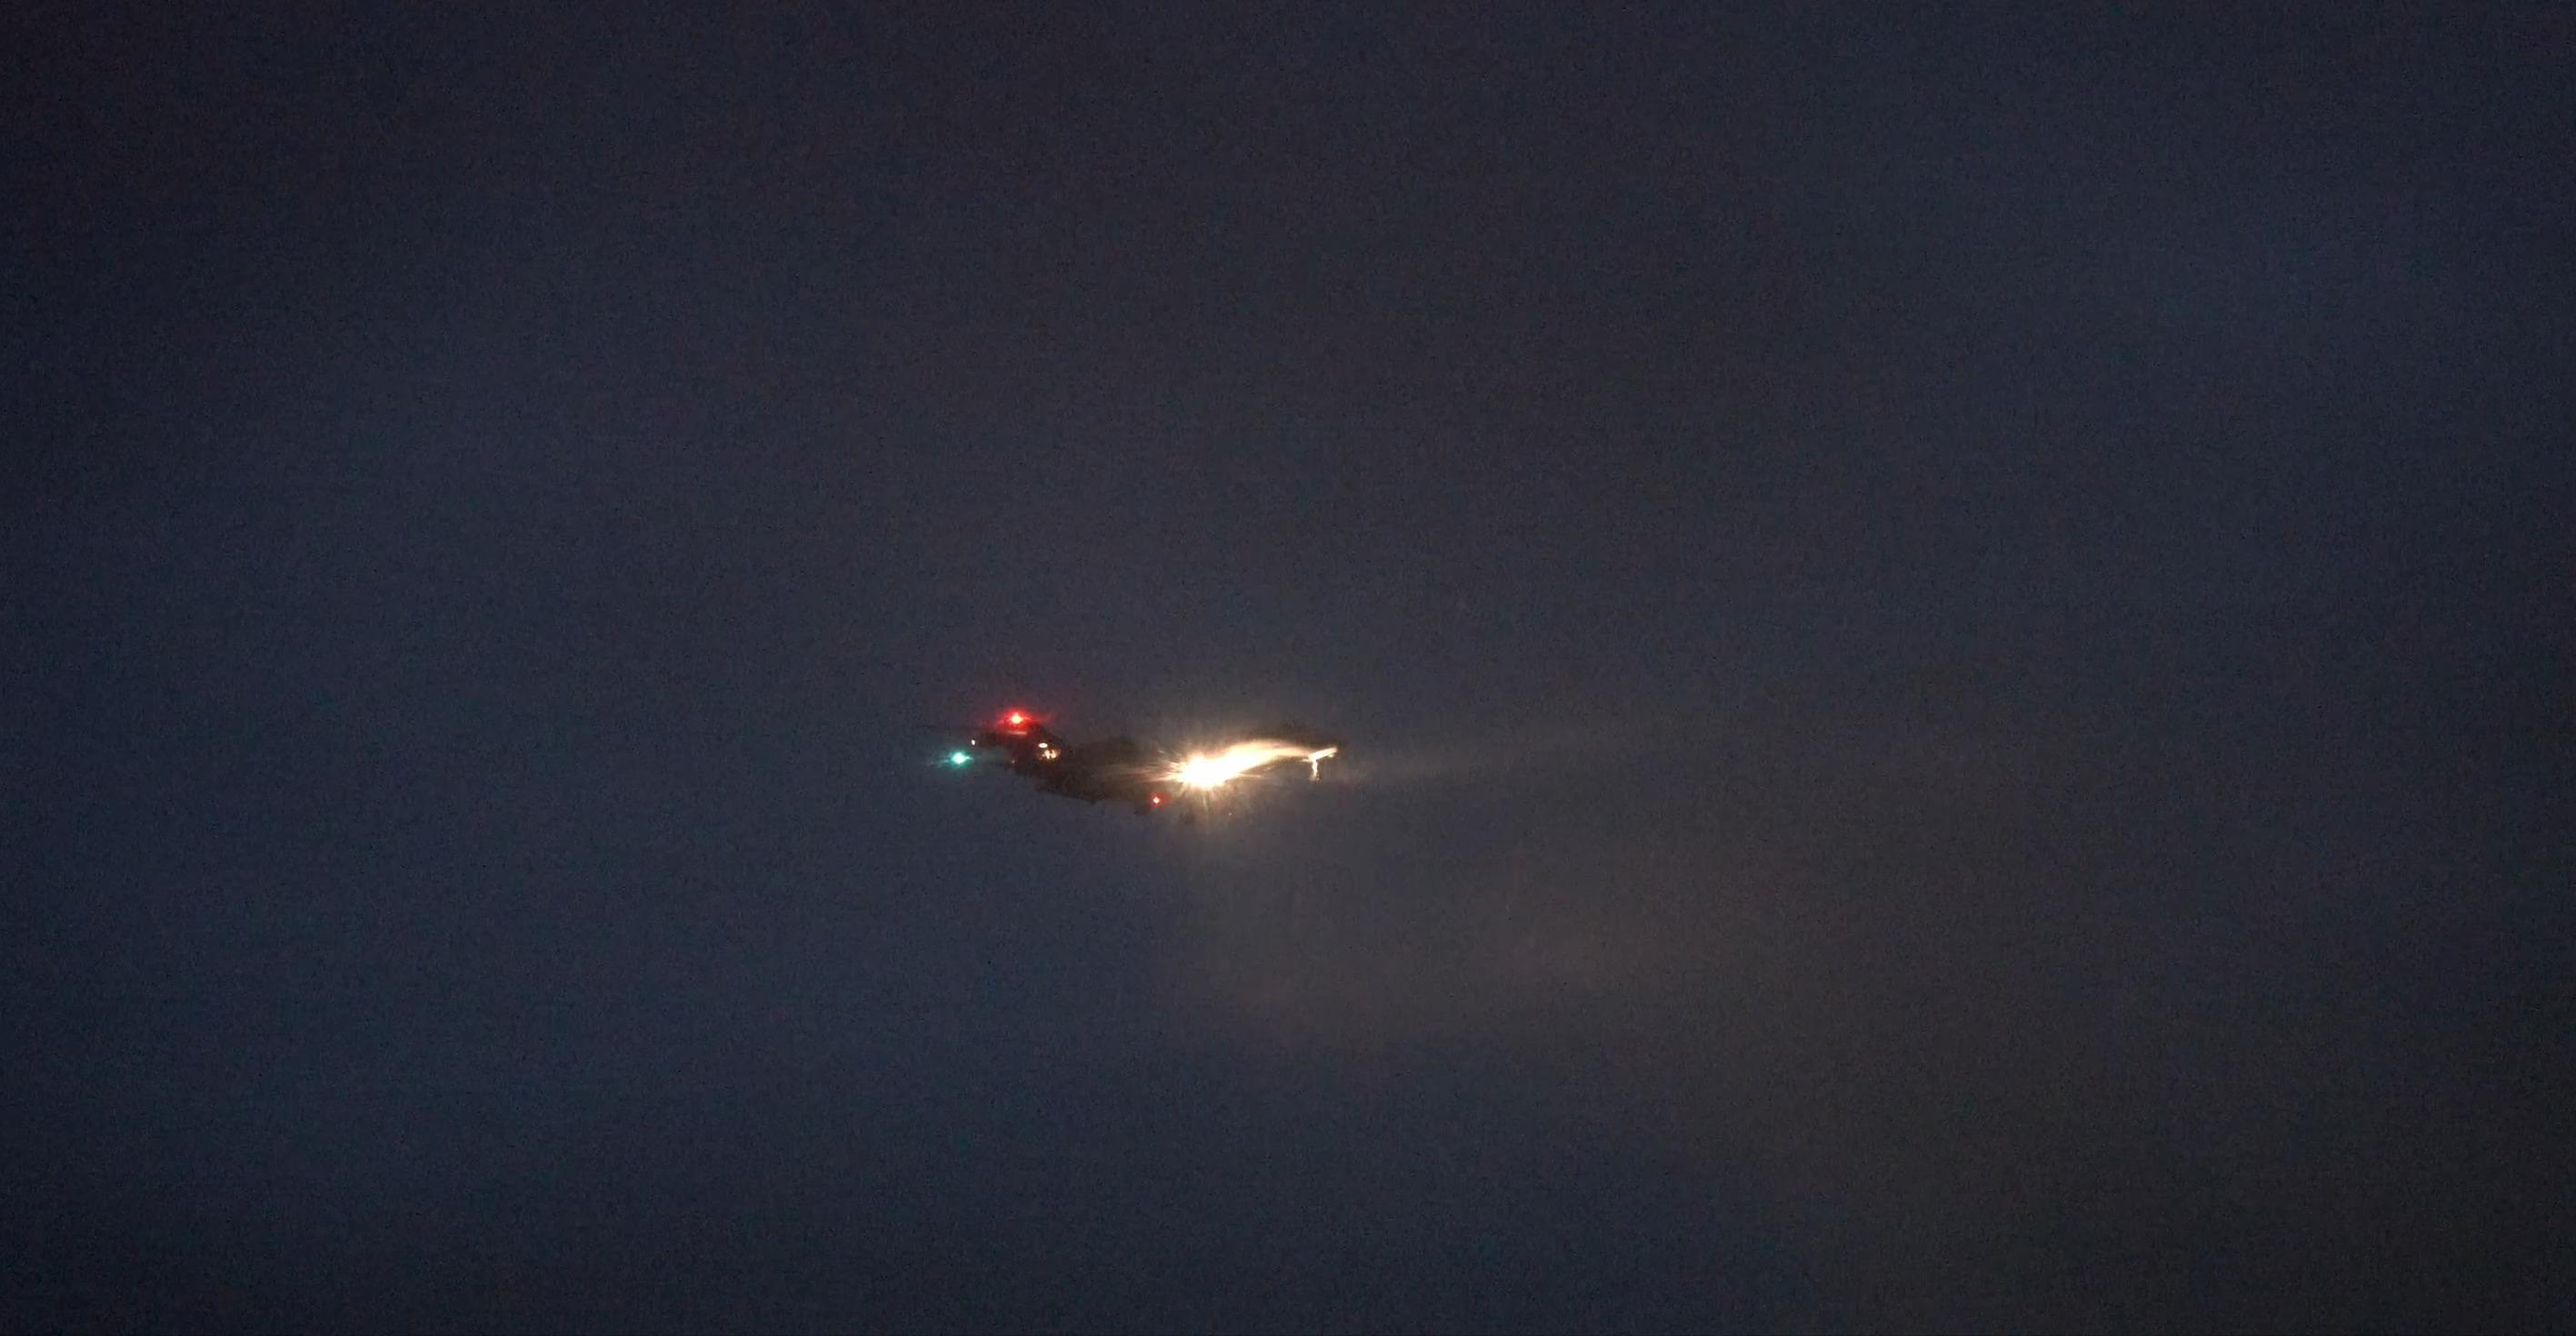Plane: (881, 688, 1354, 886)
